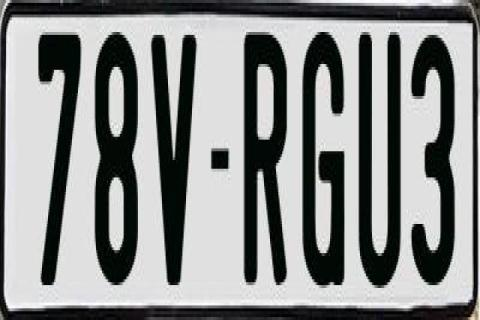0: (408, 26, 456, 276), (35, 32, 81, 291), (92, 32, 136, 288)
G: (298, 32, 342, 296)
R: (243, 26, 287, 288)
U: (356, 32, 402, 294)
V: (148, 26, 196, 291)
